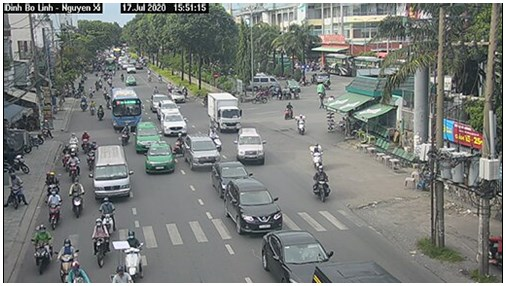xe_buyt: (110, 87, 144, 130)
xe_hoi: (262, 230, 334, 282), (222, 178, 282, 236), (183, 131, 219, 171), (233, 126, 267, 164), (142, 141, 177, 176), (213, 158, 248, 192), (132, 121, 159, 153), (162, 111, 189, 136), (157, 98, 178, 117)
xe_khach: (93, 145, 131, 199)
xe_may: (117, 224, 144, 277), (32, 225, 53, 276), (5, 170, 31, 211), (90, 218, 111, 266), (58, 235, 78, 282), (311, 166, 334, 204), (67, 175, 86, 218), (98, 197, 117, 235), (45, 189, 61, 229), (309, 140, 327, 171), (43, 168, 60, 196), (66, 152, 80, 180), (295, 112, 308, 136), (120, 123, 132, 148), (80, 130, 92, 153), (283, 102, 294, 121)
xe_tai: (206, 92, 241, 133)
